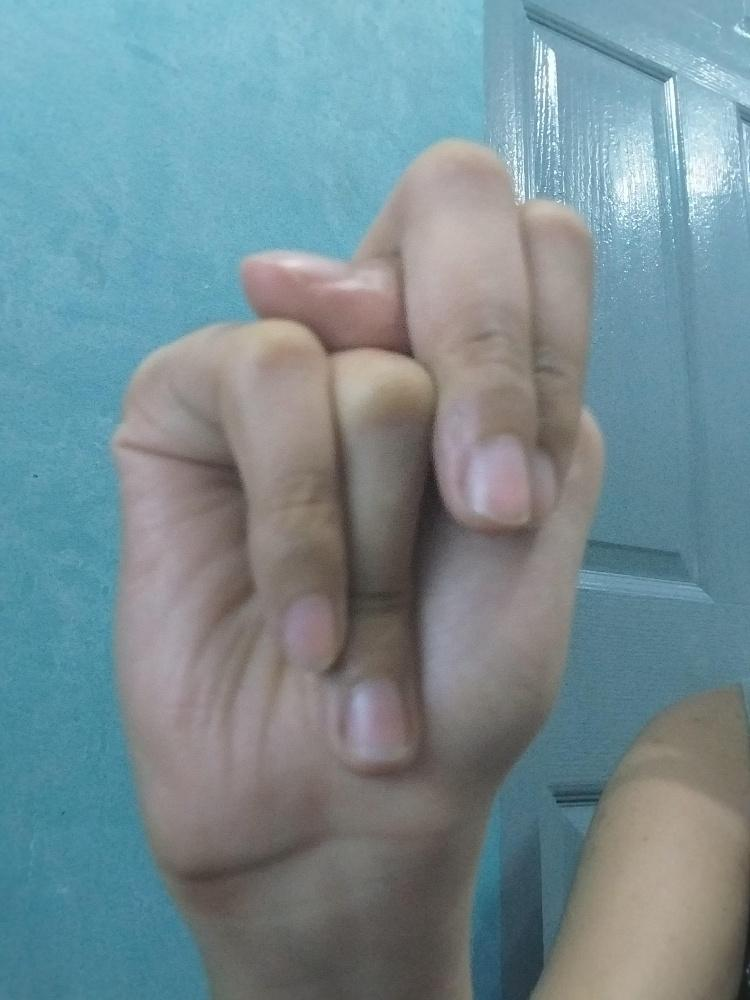n: (107, 132, 608, 876)
